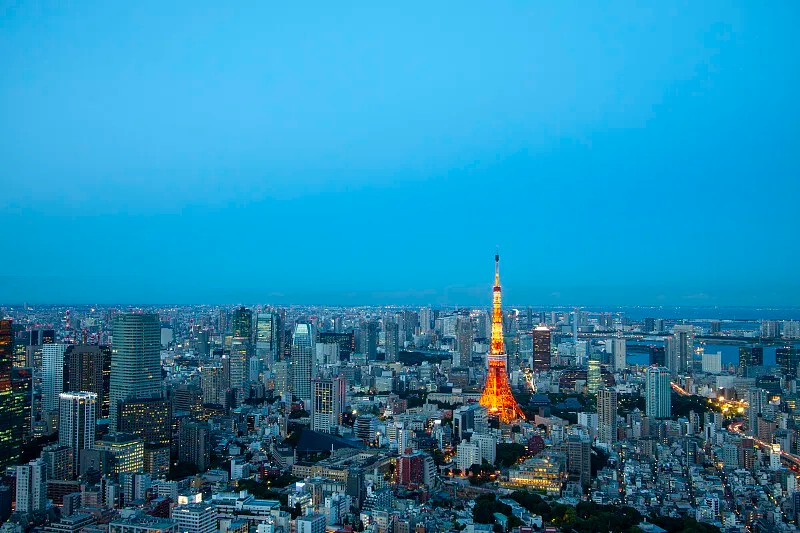Tokyo: (473, 245, 528, 426)
